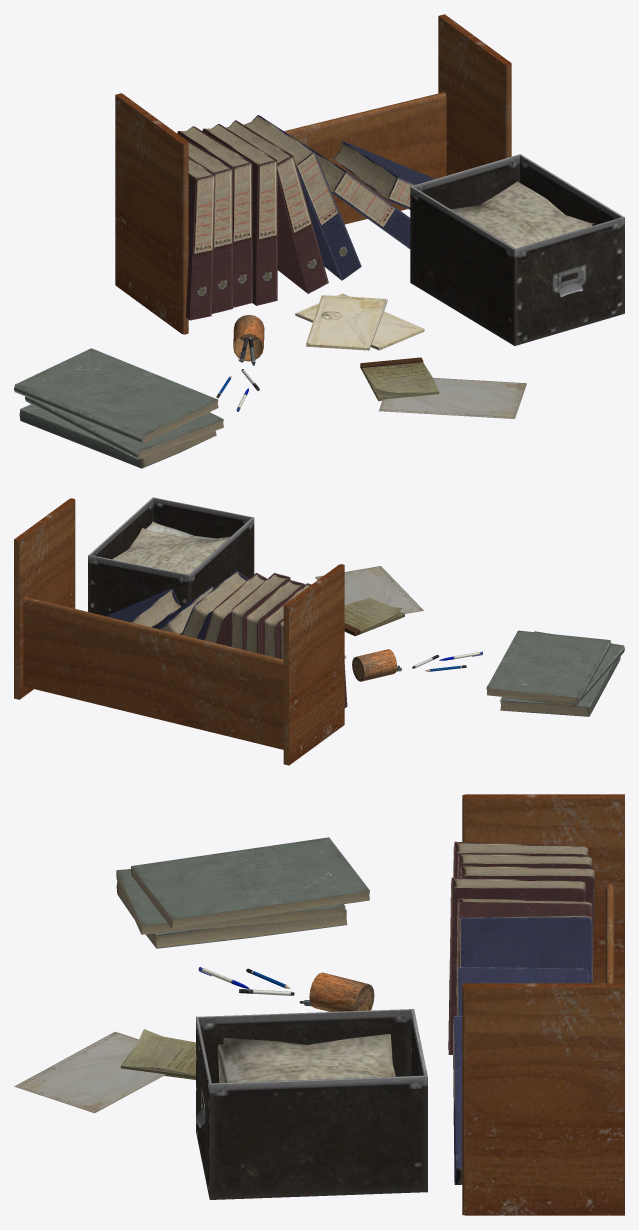
File: sm39_128_officedeskset02a.fbx
3 views of the same model, one above another, from view 1: azimuth 30°, elevation 25°; view 2: azimuth 150°, elevation 25°; view 3: azimuth 270°, elevation 25° (orthographic). The views are drawn at different scales.
Parts seen in each view (by area): view 1: LOD_1_Group_3_Sub_2__sm30_147_OfficeDesk01A_A_Mat, LOD_1_Group_0_Sub_1__sm36_022_Cardboard01A_B_Mat, LOD_1_Group_1_Sub_1__sm36_007_PaperWork01A_A_Mat, LOD_1_Group_2_Sub_1__sm36_007_PaperWork01A_A_Mat, LOD_1_Group_0_Sub_4__sm36_008_Envelope01A_A, LOD_1_Group_0_Sub_2__sm36_009_PaperBundle01A_A_Mat, LOD_1_Group_0_Sub_3__sm36_011_Document01A_A_Mat, LOD_1_Group_3_Sub_1__sm36_007_PaperWork01A_A_Mat, LOD_1_Group_0_Sub_6__sm36_013_Notepad01A_A_Mat, LOD_1_Group_0_Sub_5__sm36_031_Penholder01A_E_Mat; view 2: LOD_1_Group_3_Sub_2__sm30_147_OfficeDesk01A_A_Mat, LOD_1_Group_1_Sub_1__sm36_007_PaperWork01A_A_Mat, LOD_1_Group_0_Sub_1__sm36_022_Cardboard01A_B_Mat, LOD_1_Group_2_Sub_1__sm36_007_PaperWork01A_A_Mat, LOD_1_Group_0_Sub_2__sm36_009_PaperBundle01A_A_Mat, LOD_1_Group_0_Sub_3__sm36_011_Document01A_A_Mat, LOD_1_Group_0_Sub_5__sm36_031_Penholder01A_E_Mat, LOD_1_Group_0_Sub_6__sm36_013_Notepad01A_A_Mat, LOD_1_Group_3_Sub_1__sm36_007_PaperWork01A_A_Mat; view 3: LOD_1_Group_3_Sub_2__sm30_147_OfficeDesk01A_A_Mat, LOD_1_Group_0_Sub_1__sm36_022_Cardboard01A_B_Mat, LOD_1_Group_1_Sub_1__sm36_007_PaperWork01A_A_Mat, LOD_1_Group_2_Sub_1__sm36_007_PaperWork01A_A_Mat, LOD_1_Group_0_Sub_2__sm36_009_PaperBundle01A_A_Mat, LOD_1_Group_0_Sub_3__sm36_011_Document01A_A_Mat, LOD_1_Group_0_Sub_5__sm36_031_Penholder01A_E_Mat, LOD_1_Group_0_Sub_6__sm36_013_Notepad01A_A_Mat, LOD_1_Group_3_Sub_1__sm36_007_PaperWork01A_A_Mat.
Boxes of the visible parts, bbox=[...] form: LOD_1_Group_3_Sub_2__sm30_147_OfficeDesk01A_A_Mat: bbox=[115, 14, 511, 334]; LOD_1_Group_0_Sub_1__sm36_022_Cardboard01A_B_Mat: bbox=[410, 154, 624, 345]; LOD_1_Group_1_Sub_1__sm36_007_PaperWork01A_A_Mat: bbox=[14, 126, 252, 468]; LOD_1_Group_2_Sub_1__sm36_007_PaperWork01A_A_Mat: bbox=[202, 115, 410, 305]; LOD_1_Group_0_Sub_4__sm36_008_Envelope01A_A: bbox=[295, 293, 424, 350]; LOD_1_Group_0_Sub_2__sm36_009_PaperBundle01A_A_Mat: bbox=[450, 181, 594, 248]; LOD_1_Group_0_Sub_3__sm36_011_Document01A_A_Mat: bbox=[379, 377, 526, 418]; LOD_1_Group_3_Sub_1__sm36_007_PaperWork01A_A_Mat: bbox=[333, 141, 434, 209]; LOD_1_Group_0_Sub_6__sm36_013_Notepad01A_A_Mat: bbox=[360, 357, 439, 401]; LOD_1_Group_0_Sub_5__sm36_031_Penholder01A_E_Mat: bbox=[216, 315, 264, 411]; LOD_1_Group_3_Sub_2__sm30_147_OfficeDesk01A_A_Mat: bbox=[14, 498, 344, 765]; LOD_1_Group_1_Sub_1__sm36_007_PaperWork01A_A_Mat: bbox=[245, 579, 624, 716]; LOD_1_Group_0_Sub_1__sm36_022_Cardboard01A_B_Mat: bbox=[88, 497, 254, 627]; LOD_1_Group_2_Sub_1__sm36_007_PaperWork01A_A_Mat: bbox=[154, 570, 290, 649]; LOD_1_Group_0_Sub_2__sm36_009_PaperBundle01A_A_Mat: bbox=[112, 521, 230, 574]; LOD_1_Group_0_Sub_3__sm36_011_Document01A_A_Mat: bbox=[315, 566, 423, 613]; LOD_1_Group_0_Sub_5__sm36_031_Penholder01A_E_Mat: bbox=[352, 649, 482, 681]; LOD_1_Group_0_Sub_6__sm36_013_Notepad01A_A_Mat: bbox=[344, 598, 404, 636]; LOD_1_Group_3_Sub_1__sm36_007_PaperWork01A_A_Mat: bbox=[106, 588, 181, 627]; LOD_1_Group_3_Sub_2__sm30_147_OfficeDesk01A_A_Mat: bbox=[462, 794, 624, 1215]; LOD_1_Group_0_Sub_1__sm36_022_Cardboard01A_B_Mat: bbox=[196, 1009, 427, 1199]; LOD_1_Group_1_Sub_1__sm36_007_PaperWork01A_A_Mat: bbox=[116, 837, 595, 983]; LOD_1_Group_2_Sub_1__sm36_007_PaperWork01A_A_Mat: bbox=[448, 877, 592, 1054]; LOD_1_Group_0_Sub_2__sm36_009_PaperBundle01A_A_Mat: bbox=[217, 1034, 395, 1082]; LOD_1_Group_0_Sub_3__sm36_011_Document01A_A_Mat: bbox=[14, 1031, 165, 1113]; LOD_1_Group_0_Sub_5__sm36_031_Penholder01A_E_Mat: bbox=[198, 966, 374, 1011]; LOD_1_Group_0_Sub_6__sm36_013_Notepad01A_A_Mat: bbox=[120, 1029, 195, 1079]; LOD_1_Group_3_Sub_1__sm36_007_PaperWork01A_A_Mat: bbox=[452, 1016, 462, 1184].
Bounding box in the file's own units: 1.4 × 0.4504 × 1.09.
